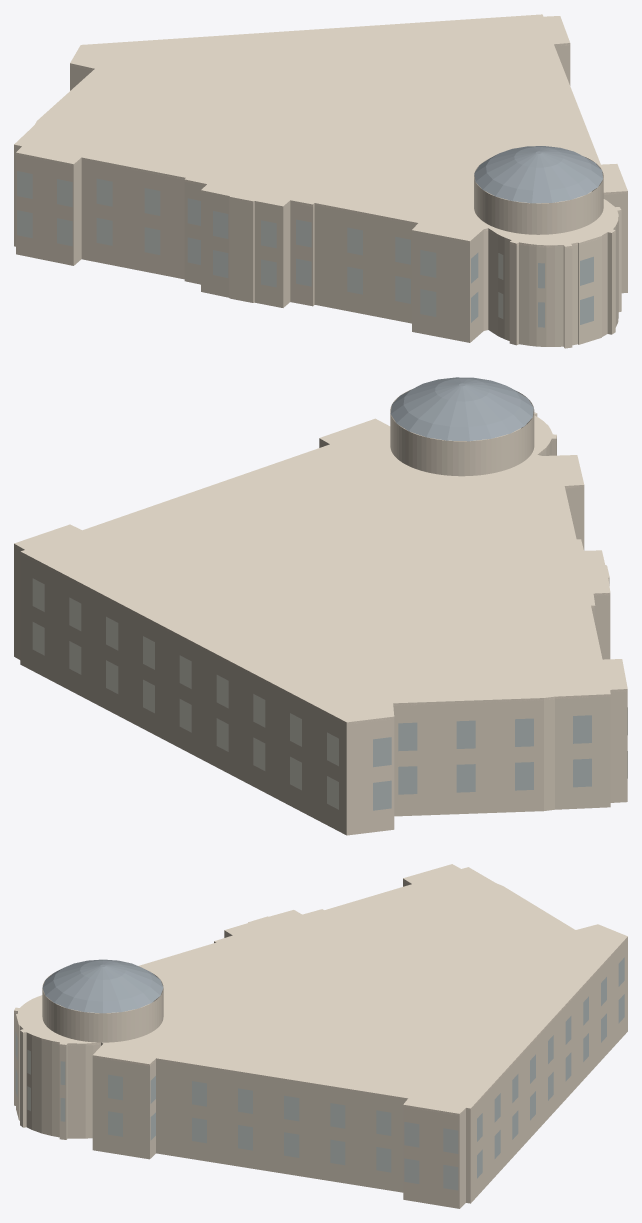
Rendered from detail.glb.
3 renders of one model, top to bottom at view 1: azimuth 30°, elevation 25°; view 2: azimuth 150°, elevation 25°; view 3: azimuth 270°, elevation 25°, orthographic. The views are drawn at different scales.
Parts seen in each view (by area): view 1: stone, window, roof, trim; view 2: stone, window, roof; view 3: stone, window, roof, trim.
Boxes of the visible parts, <box> form: stone: <box>14,14,627,348</box>; window: <box>17,171,593,327</box>; roof: <box>474,146,603,203</box>; trim: <box>14,44,627,248</box>; stone: <box>14,389,627,835</box>; window: <box>32,578,627,810</box>; roof: <box>390,377,533,441</box>; stone: <box>14,864,627,1208</box>; window: <box>15,957,624,1190</box>; roof: <box>42,959,163,1013</box>; trim: <box>14,879,624,1115</box>.
Bounding box in the file's own units: 73.27 × 20 × 76.08.
